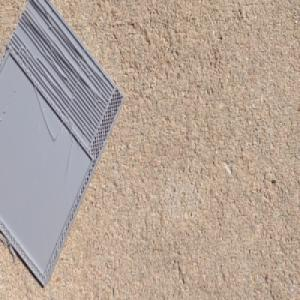PlasticPart: (0, 0, 128, 288)
